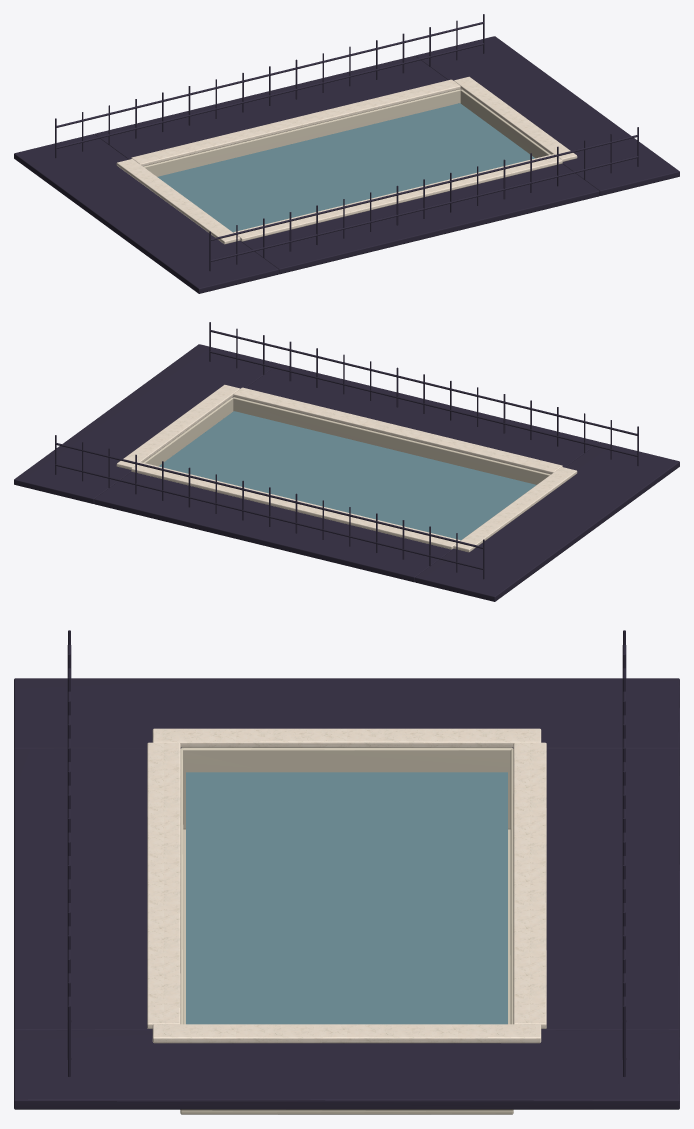
Rendered from finish_pool_edge.glb.
The picture shows the model from 3 angles, top to bottom: view 1: azimuth 30°, elevation 25°; view 2: azimuth 150°, elevation 25°; view 3: azimuth 270°, elevation 25°; orthographic projection. The views are drawn at different scales.
Visible parts, largest first — view 1: exterior_fence_post.009; view 2: exterior_fence_post.009; view 3: exterior_fence_post.009.
Part boxes in pixels (box(x1,y1,x2,y2)): exterior_fence_post.009: box(14, 14, 679, 293); exterior_fence_post.009: box(14, 322, 679, 601); exterior_fence_post.009: box(14, 630, 679, 1114).
Size of the model in its own units: 18 by 3.1 by 12.
Materials: 4 (1 with a texture image).
